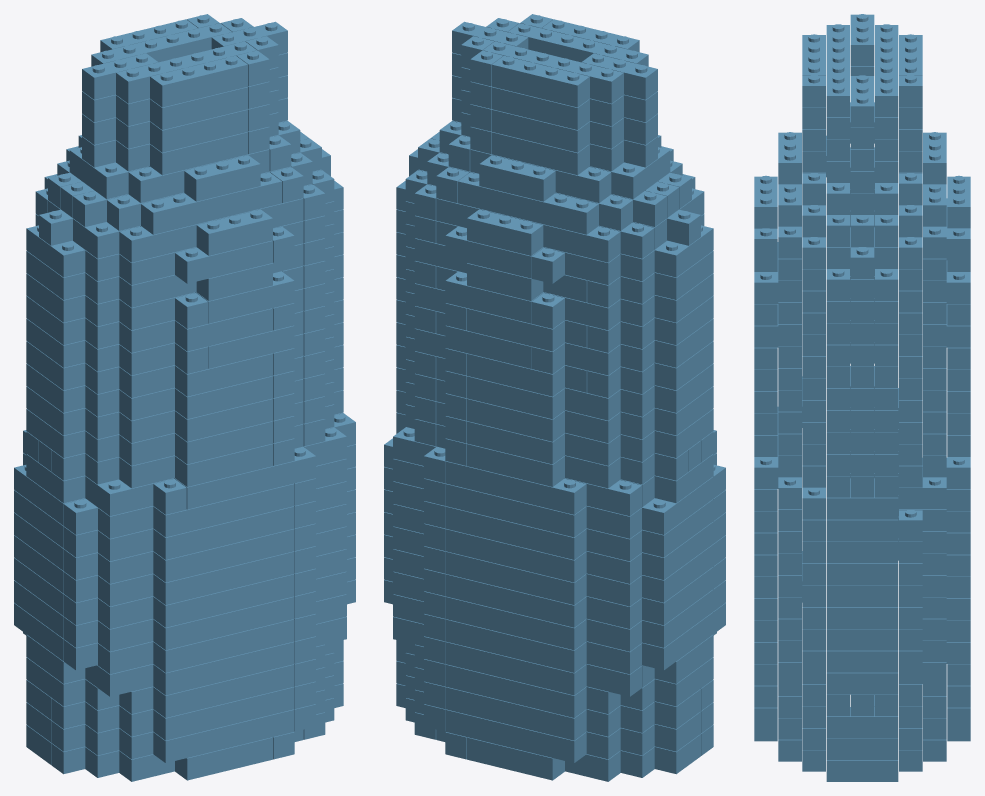
Rendered from 078_bottle_L3.glb.
3 views of the same model, side by side, from view 1: azimuth 30°, elevation 25°; view 2: azimuth 150°, elevation 25°; view 3: azimuth 270°, elevation 25° (orthographic). The views are drawn at different scales.
Bounding box in the file's own units: 12.98 × 30.13 × 8.98.
